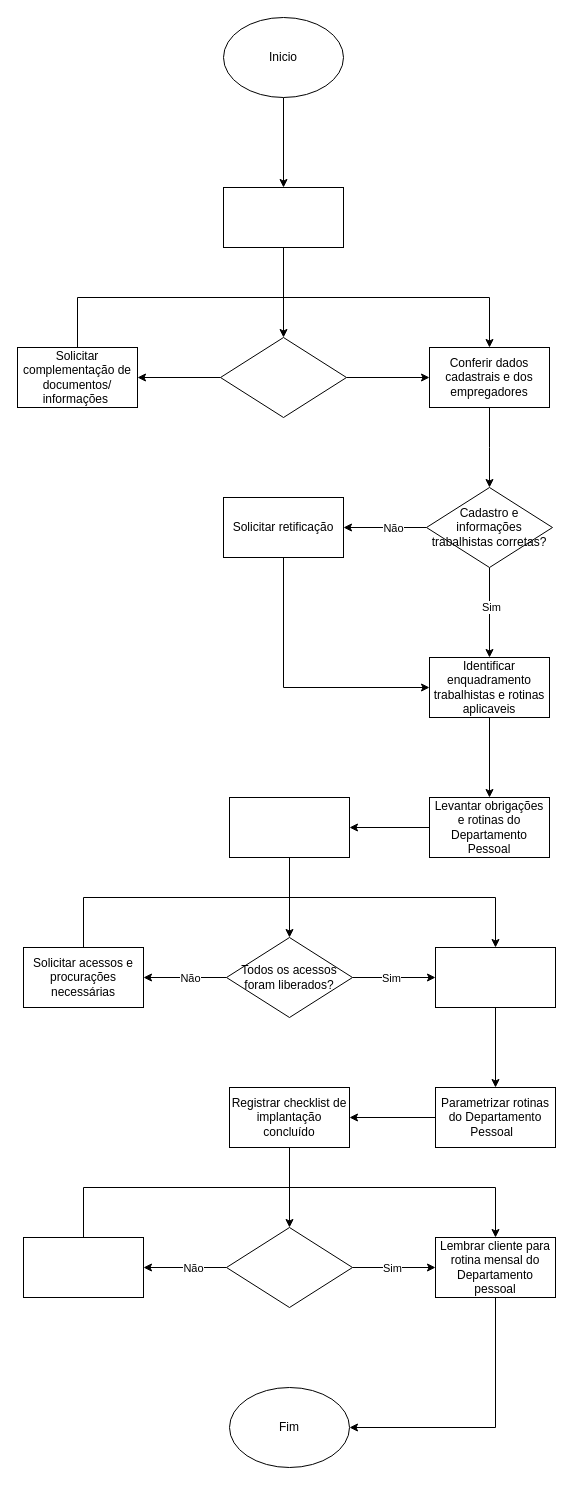
The diagram is 573 pixels wide and 1485 high, and some of its shapes have lost their labels. Here are the shapes that lost their labels. From the top down, the centre of each, then its label:
the point at 283,217: Solicitar documentos e informações iniciais do departamento pessoal
the point at 283,377: Documentação recebida completa?
the point at 289,827: Verificar acessos, certificados e procurações necessários
the point at 495,977: Configurar empresa e colabores nos sistemas internos
the point at 83,1267: Identificar e regularizar pendencias
the point at 289,1267: onboarding finalizado sem pendencias?
